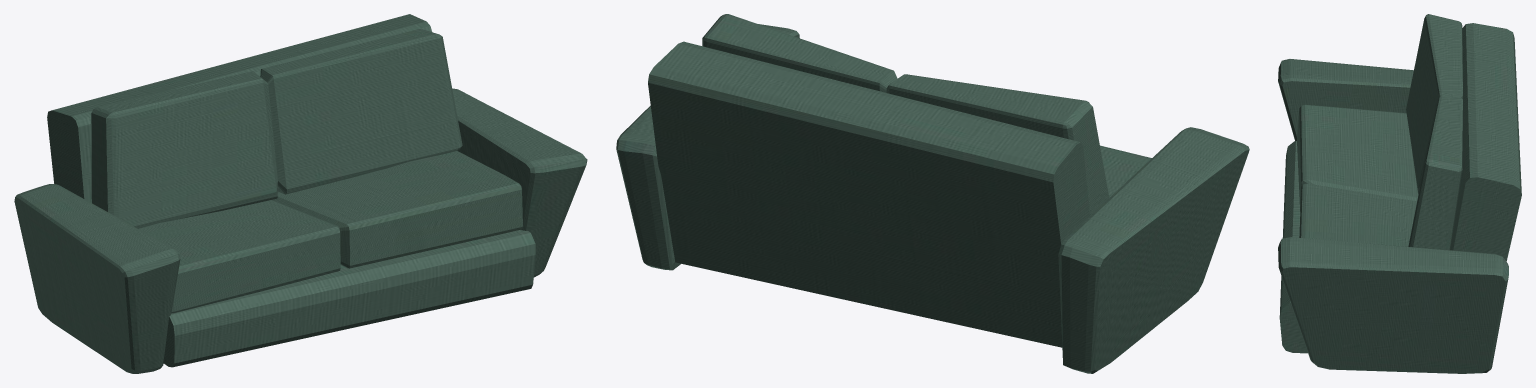
Rendered from soffa.glb.
The picture shows the model from 3 angles, left to right: view 1: azimuth 30°, elevation 25°; view 2: azimuth 150°, elevation 25°; view 3: azimuth 270°, elevation 25°; orthographic projection. The views are drawn at different scales.
Parts seen in each view (by area): view 1: Soffa; view 2: Soffa; view 3: Soffa.
Boxes of the visible parts, x1=… form: Soffa: x1=14, y1=14, x2=587, y2=373; Soffa: x1=616, y1=14, x2=1249, y2=373; Soffa: x1=1278, y1=14, x2=1521, y2=373.
Bounding box in the file's own units: 1.97 × 0.8731 × 0.9802.
1 material, 1 textured.
